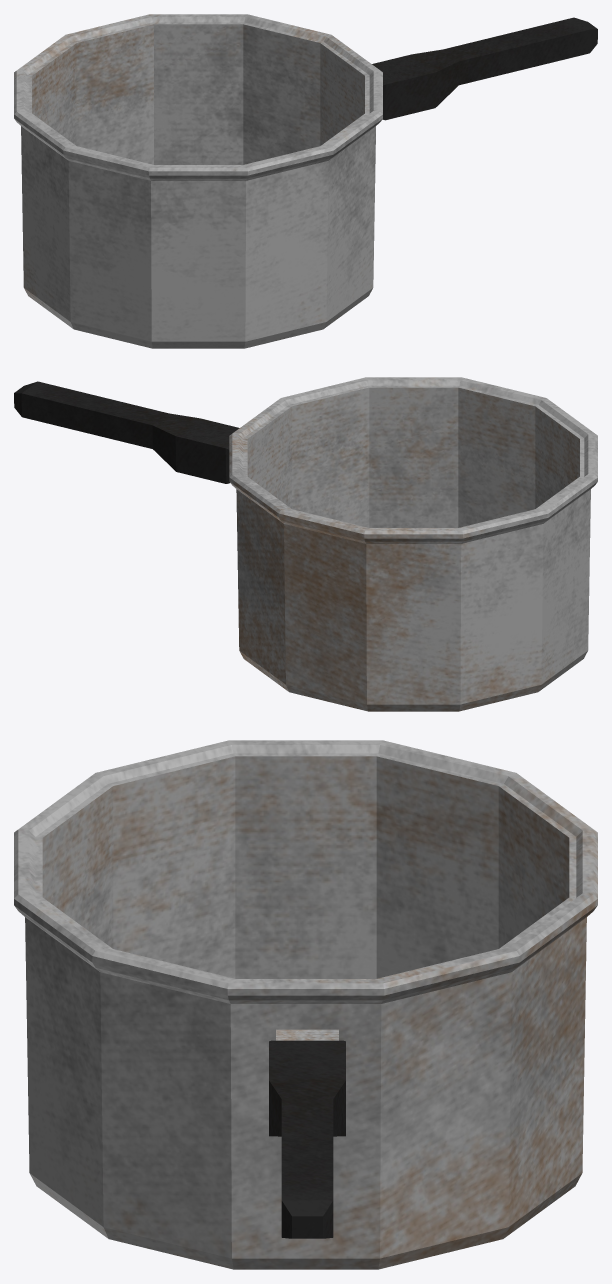
The model's file is boil_pot.glb.
3 renders of one model, top to bottom at view 1: azimuth 30°, elevation 25°; view 2: azimuth 150°, elevation 25°; view 3: azimuth 270°, elevation 25°, orthographic. The views are drawn at different scales.
Parts seen in each view (by area): view 1: pCylinder2; view 2: pCylinder2; view 3: pCylinder2.
Boxes of the visible parts, <box> form: pCylinder2: <box>14,14,597,348</box>; pCylinder2: <box>14,377,597,711</box>; pCylinder2: <box>14,740,597,1269</box>.
Bounding box in the file's own units: 0.6766 × 0.2272 × 0.3898.
1 material, 1 textured.
